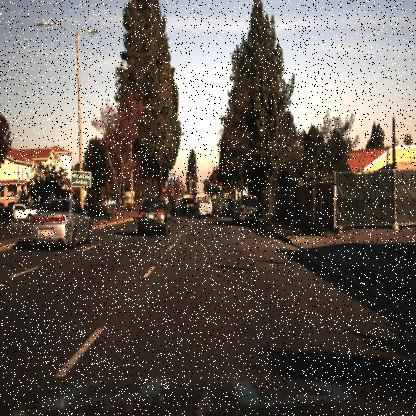car: (28, 197, 92, 255), (136, 197, 176, 242), (234, 194, 259, 224), (12, 199, 38, 224), (197, 196, 213, 221), (182, 197, 198, 221), (166, 196, 180, 217)
